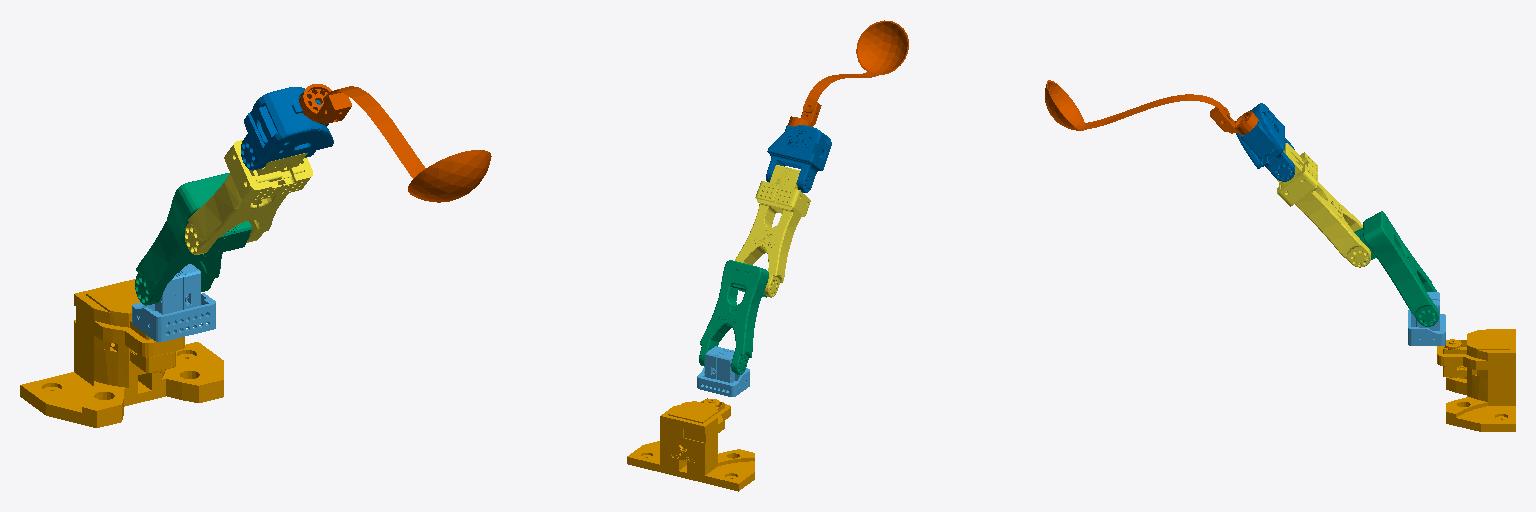
robot.urdf — generated_robot:
<?xml version="1.0"?>
<robot name="generated_robot">
  <link name="base_link">
    <inertial>
      <origin xyz="0.00086111 -0.1813544 0.00770474" rpy="0 0 0"/>
      <mass value="0.70093924"/>
      <inertia ixx="0.00116811" ixy="0" ixz="0" iyy="0.00260125" iyz="0.00001864" izz="0.00264283"/>
    </inertial>
    <visual name="part_007_visual_1">
      <origin xyz="0 0 0" rpy="1.57079633 0 0"/>
      <geometry><mesh filename="meshes/part_007_NAUO7.stl" scale="0.001 0.001 0.001"/></geometry>
    </visual>
    <collision name="part_007_collision_1">
      <origin xyz="0 0 0" rpy="1.57079633 0 0"/>
      <geometry><mesh filename="meshes/part_007_NAUO7.stl" scale="0.001 0.001 0.001"/></geometry>
    </collision>
    <visual name="part_006_visual_2">
      <origin xyz="0 0 0" rpy="1.57079633 0 0"/>
      <geometry><mesh filename="meshes/part_006_NAUO6.stl" scale="0.001 0.001 0.001"/></geometry>
    </visual>
    <collision name="part_006_collision_2">
      <origin xyz="0 0 0" rpy="1.57079633 0 0"/>
      <geometry><mesh filename="meshes/part_006_NAUO6.stl" scale="0.001 0.001 0.001"/></geometry>
    </collision>
    <visual name="part_001_visual_3">
      <origin xyz="0 0 0" rpy="1.57079633 0 0"/>
      <geometry><mesh filename="meshes/part_001_NAUO1.stl" scale="0.001 0.001 0.001"/></geometry>
    </visual>
    <collision name="part_001_collision_3">
      <origin xyz="0 0 0" rpy="1.57079633 0 0"/>
      <geometry><mesh filename="meshes/part_001_NAUO1.stl" scale="0.001 0.001 0.001"/></geometry>
    </collision>
  </link>
  <link name="link_002">
    <inertial>
      <origin xyz="0.00015219 -0.03576128 0.0578336" rpy="0 0 0"/>
      <mass value="0.05664456"/>
      <inertia ixx="0.00002335" ixy="-1e-8" ixz="-7e-8" iyy="0.00003185" iyz="-4.4e-7" izz="0.00002735"/>
    </inertial>
    <visual name="part_003_visual_1">
      <origin xyz="-0.00086197 0.22014068 -0.02325593" rpy="1.57079633 0 0"/>
      <geometry><mesh filename="meshes/part_003_NAUO3.stl" scale="0.001 0.001 0.001"/></geometry>
    </visual>
    <collision name="part_003_collision_1">
      <origin xyz="-0.00086197 0.22014068 -0.02325593" rpy="1.57079633 0 0"/>
      <geometry><mesh filename="meshes/part_003_NAUO3.stl" scale="0.001 0.001 0.001"/></geometry>
    </collision>
    <visual name="part_008_visual_2">
      <origin xyz="-0.00086197 0.22014068 -0.02325593" rpy="1.57079633 0 0"/>
      <geometry><mesh filename="meshes/part_008_NAUO8.stl" scale="0.001 0.001 0.001"/></geometry>
    </visual>
    <collision name="part_008_collision_2">
      <origin xyz="-0.00086197 0.22014068 -0.02325593" rpy="1.57079633 0 0"/>
      <geometry><mesh filename="meshes/part_008_NAUO8.stl" scale="0.001 0.001 0.001"/></geometry>
    </collision>
  </link>
  <link name="link_003">
    <inertial>
      <origin xyz="0.00003407 -0.04405807 0.06706717" rpy="0 0 0"/>
      <mass value="0.25426906"/>
      <inertia ixx="0.00078548" ixy="3.5e-7" ixz="-3.1e-7" iyy="0.00062631" iyz="0.00004659" izz="0.00040959"/>
    </inertial>
    <visual name="part_009_visual_1">
      <origin xyz="-0.00081111 0.25443099 -0.10393834" rpy="1.57079633 0 0"/>
      <geometry><mesh filename="meshes/part_009_NAUO9.stl" scale="0.001 0.001 0.001"/></geometry>
    </visual>
    <collision name="part_009_collision_1">
      <origin xyz="-0.00081111 0.25443099 -0.10393834" rpy="1.57079633 0 0"/>
      <geometry><mesh filename="meshes/part_009_NAUO9.stl" scale="0.001 0.001 0.001"/></geometry>
    </collision>
    <visual name="part_010_visual_2">
      <origin xyz="-0.00081111 0.25443099 -0.10393834" rpy="1.57079633 0 0"/>
      <geometry><mesh filename="meshes/part_010_NAUO10.stl" scale="0.001 0.001 0.001"/></geometry>
    </visual>
    <collision name="part_010_collision_2">
      <origin xyz="-0.00081111 0.25443099 -0.10393834" rpy="1.57079633 0 0"/>
      <geometry><mesh filename="meshes/part_010_NAUO10.stl" scale="0.001 0.001 0.001"/></geometry>
    </collision>
  </link>
  <link name="link_004">
    <inertial>
      <origin xyz="0.0000288 -0.05917088 0.07052057" rpy="0 0 0"/>
      <mass value="0.3005256"/>
      <inertia ixx="0.00106467" ixy="3.4e-7" ixz="-4.6e-7" iyy="0.00075906" iyz="0.00013298" izz="0.00059397"/>
    </inertial>
    <visual name="part_011_visual_1">
      <origin xyz="-0.0007611 0.35129309 -0.19810444" rpy="1.57079633 0 0"/>
      <geometry><mesh filename="meshes/part_011_NAUO11.stl" scale="0.001 0.001 0.001"/></geometry>
    </visual>
    <collision name="part_011_collision_1">
      <origin xyz="-0.0007611 0.35129309 -0.19810444" rpy="1.57079633 0 0"/>
      <geometry><mesh filename="meshes/part_011_NAUO11.stl" scale="0.001 0.001 0.001"/></geometry>
    </collision>
    <visual name="part_004_visual_2">
      <origin xyz="-0.0007611 0.35129309 -0.19810444" rpy="1.57079633 0 0"/>
      <geometry><mesh filename="meshes/part_004_NAUO4.stl" scale="0.001 0.001 0.001"/></geometry>
    </visual>
    <collision name="part_004_collision_2">
      <origin xyz="-0.0007611 0.35129309 -0.19810444" rpy="1.57079633 0 0"/>
      <geometry><mesh filename="meshes/part_004_NAUO4.stl" scale="0.001 0.001 0.001"/></geometry>
    </collision>
    <visual name="part_012_visual_3">
      <origin xyz="-0.0007611 0.35129309 -0.19810444" rpy="1.57079633 0 0"/>
      <geometry><mesh filename="meshes/part_012_NAUO12.stl" scale="0.001 0.001 0.001"/></geometry>
    </visual>
    <collision name="part_012_collision_3">
      <origin xyz="-0.0007611 0.35129309 -0.19810444" rpy="1.57079633 0 0"/>
      <geometry><mesh filename="meshes/part_012_NAUO12.stl" scale="0.001 0.001 0.001"/></geometry>
    </collision>
  </link>
  <link name="link_005">
    <inertial>
      <origin xyz="-0.0013334 -0.03320977 0.03990423" rpy="0 0 0"/>
      <mass value="0.37513573"/>
      <inertia ixx="0.00031511" ixy="-0.00000184" ixz="0.00000277" iyy="0.00030999" iyz="0.00000805" izz="0.000283"/>
    </inertial>
    <visual name="part_005_visual_1">
      <origin xyz="-0.00021981 0.46016551 -0.33295674" rpy="1.57079633 0 0"/>
      <geometry><mesh filename="meshes/part_005_NAUO5.stl" scale="0.001 0.001 0.001"/></geometry>
    </visual>
    <collision name="part_005_collision_1">
      <origin xyz="-0.00021981 0.46016551 -0.33295674" rpy="1.57079633 0 0"/>
      <geometry><mesh filename="meshes/part_005_NAUO5.stl" scale="0.001 0.001 0.001"/></geometry>
    </collision>
    <visual name="part_013_visual_2">
      <origin xyz="-0.00021981 0.46016551 -0.33295674" rpy="1.57079633 0 0"/>
      <geometry><mesh filename="meshes/part_013_NAUO13.stl" scale="0.001 0.001 0.001"/></geometry>
    </visual>
    <collision name="part_013_collision_2">
      <origin xyz="-0.00021981 0.46016551 -0.33295674" rpy="1.57079633 0 0"/>
      <geometry><mesh filename="meshes/part_013_NAUO13.stl" scale="0.001 0.001 0.001"/></geometry>
    </collision>
  </link>
  <link name="link_006">
    <inertial>
      <origin xyz="0.00051287 -0.10820073 0.04003143" rpy="0 0 0"/>
      <mass value="0.04801739"/>
      <inertia ixx="0.00040537" ixy="0" ixz="0" iyy="0.00003848" iyz="0.00003947" izz="0.00040395"/>
    </inertial>
    <visual name="part_015_visual_1">
      <origin xyz="-0.01294824 0.49447134 -0.37673771" rpy="1.57079633 0 0"/>
      <geometry><mesh filename="meshes/part_015_NAUO15.stl" scale="0.001 0.001 0.001"/></geometry>
    </visual>
    <collision name="part_015_collision_1">
      <origin xyz="-0.01294824 0.49447134 -0.37673771" rpy="1.57079633 0 0"/>
      <geometry><mesh filename="meshes/part_015_NAUO15.stl" scale="0.001 0.001 0.001"/></geometry>
    </collision>
    <visual name="part_014_visual_2">
      <origin xyz="-0.01294824 0.49447134 -0.37673771" rpy="1.57079633 0 0"/>
      <geometry><mesh filename="meshes/part_014_NAUO14.stl" scale="0.001 0.001 0.001"/></geometry>
    </visual>
    <collision name="part_014_collision_2">
      <origin xyz="-0.01294824 0.49447134 -0.37673771" rpy="1.57079633 0 0"/>
      <geometry><mesh filename="meshes/part_014_NAUO14.stl" scale="0.001 0.001 0.001"/></geometry>
    </collision>
  </link>
  <joint name="link_002_joint" type="revolute">
    <parent link="base_link"/>
    <child link="link_002"/>
    <origin xyz="0.00086197 -0.22014068 0.02325593" rpy="0 0 0"/>
    <axis xyz="0.03898954 0.04300709 -0.99831368"/>
    <limit lower="-1.754" upper="1.754" effort="10" velocity="5"/>
  </joint>
  <joint name="link_003_joint" type="revolute">
    <parent link="link_002"/>
    <child link="link_003"/>
    <origin xyz="-0.00005086 -0.03429032 0.08068241" rpy="0 0 0"/>
    <axis xyz="-0.99950657 0.03027641 -0.00836374"/>
    <limit lower="-1.047" upper="2.269" effort="10" velocity="5"/>
  </joint>
  <joint name="link_004_joint" type="revolute">
    <parent link="link_003"/>
    <child link="link_004"/>
    <origin xyz="-0.00005 -0.0968621 0.0941661" rpy="0 0 0"/>
    <axis xyz="0.99993532 -0.00861166 -0.00742885"/>
    <limit lower="-2.88" upper="0.175" effort="10" velocity="5"/>
  </joint>
  <joint name="link_005_joint" type="revolute">
    <parent link="link_004"/>
    <child link="link_005"/>
    <origin xyz="-0.0005413 -0.10887241 0.13485231" rpy="0 0 0"/>
    <axis xyz="0.99965519 -0.0262437 0.00088265"/>
    <limit lower="-1.57" upper="1.57" effort="10" velocity="5"/>
  </joint>
  <joint name="joint_005" type="revolute">
    <parent link="link_005"/>
    <child link="link_006"/>
    <origin xyz="0.01272843 -0.03430583 0.04378097" rpy="0 0 0"/>
    <axis xyz="0.04273337 -0.62989219 0.77550609"/>
    <limit lower="-1.745" upper="1.745" effort="10" velocity="5"/>
  </joint>
</robot>

--- Facts derived from the render (not from the file) ---
Views: 3 orthographic renders of the robot side by side, from view 1: azimuth 30°, elevation 25°; view 2: azimuth 150°, elevation 25°; view 3: azimuth 270°, elevation 25°.
Robot: generated_robot — 6 links, 5 joints (5 revolute); root link base_link; default pose: all joints at 0.
Links seen in each view (by area): view 1: base_link, link_004, link_006, link_003, link_005, link_002; view 2: base_link, link_004, link_003, link_006, link_005, link_002; view 3: base_link, link_004, link_003, link_006, link_005, link_002.
Link boxes in pixels (<box>): base_link: <box>20,279,223,427</box>; link_004: <box>185,140,312,254</box>; link_006: <box>299,84,491,202</box>; link_003: <box>135,173,251,305</box>; link_005: <box>241,87,333,170</box>; link_002: <box>132,264,215,341</box>; base_link: <box>627,398,754,491</box>; link_004: <box>735,165,810,297</box>; link_003: <box>699,260,768,374</box>; link_006: <box>788,20,908,126</box>; link_005: <box>766,125,831,192</box>; link_002: <box>697,346,749,396</box>; base_link: <box>1437,329,1515,431</box>; link_004: <box>1277,143,1370,267</box>; link_003: <box>1354,211,1438,326</box>; link_006: <box>1045,80,1258,135</box>; link_005: <box>1235,103,1294,181</box>; link_002: <box>1408,292,1445,345</box>.
Bounding box of the posed robot: 0.2 × 0.6732 × 0.5085 m (x, y, z).
14 mesh visuals loaded from 14 distinct referenced files (14 binary STL).
